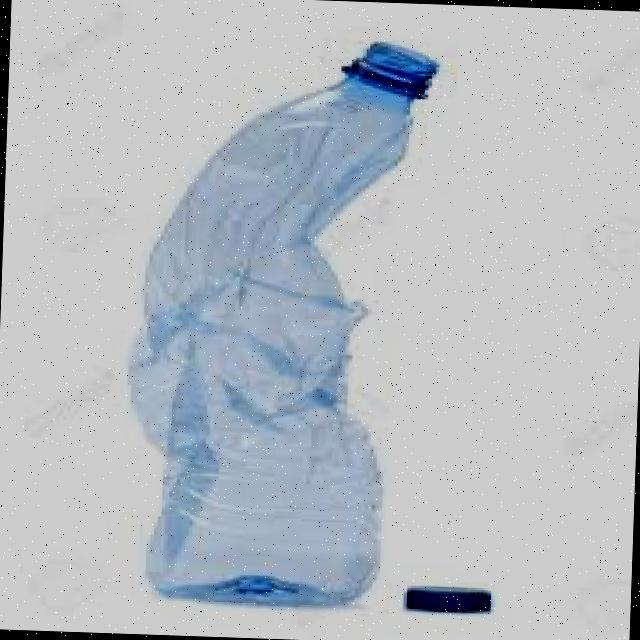bottle: (112, 22, 514, 612)
cap: (403, 576, 486, 614)
